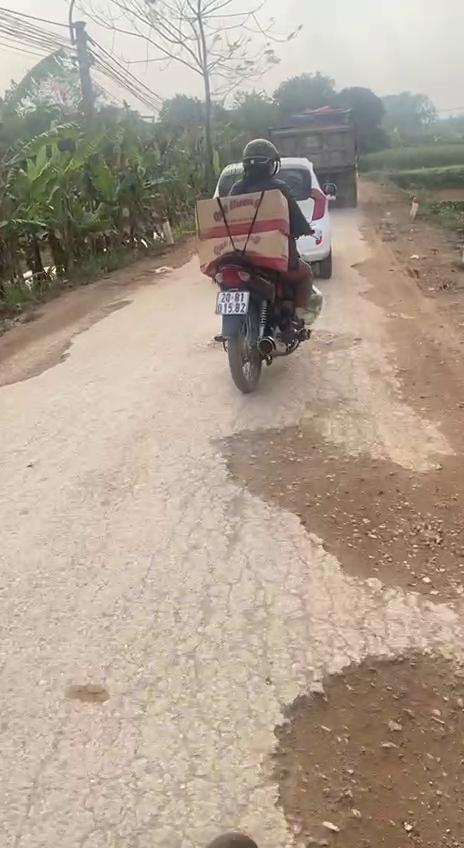pothole: (207, 414, 464, 620), (259, 640, 464, 848), (0, 294, 137, 386), (349, 258, 410, 312), (289, 325, 356, 355)
